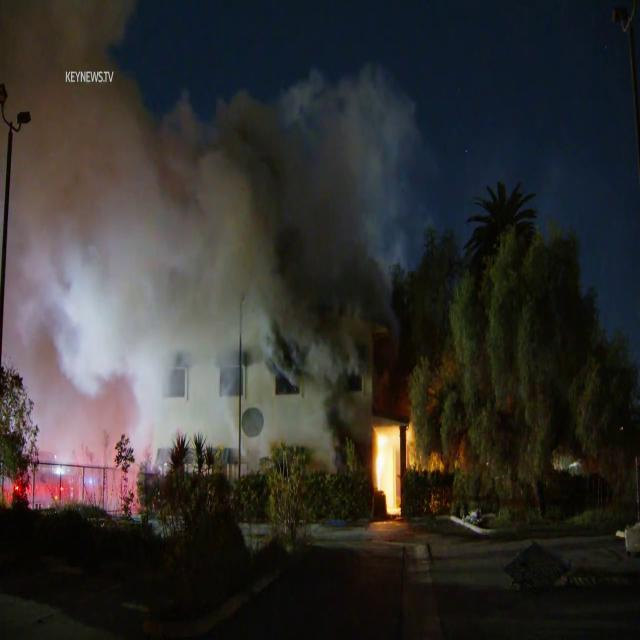Fire: (369, 417, 418, 518)
Smoke: (0, 0, 418, 387)
